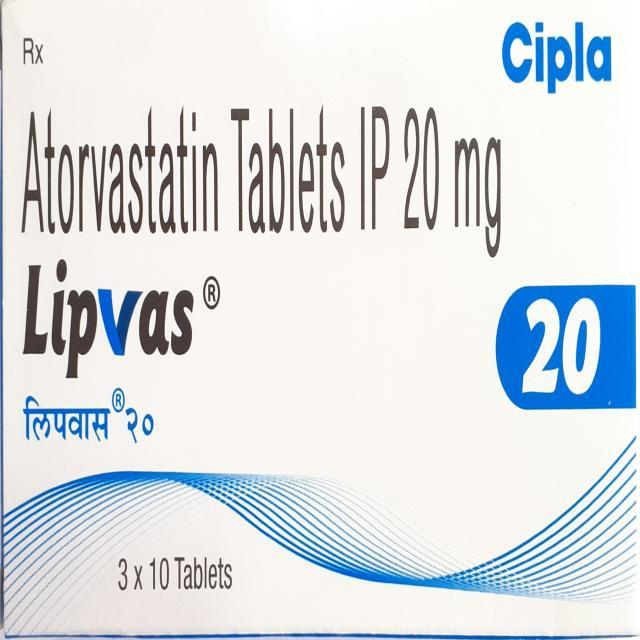drug-name: (21, 254, 200, 380)
